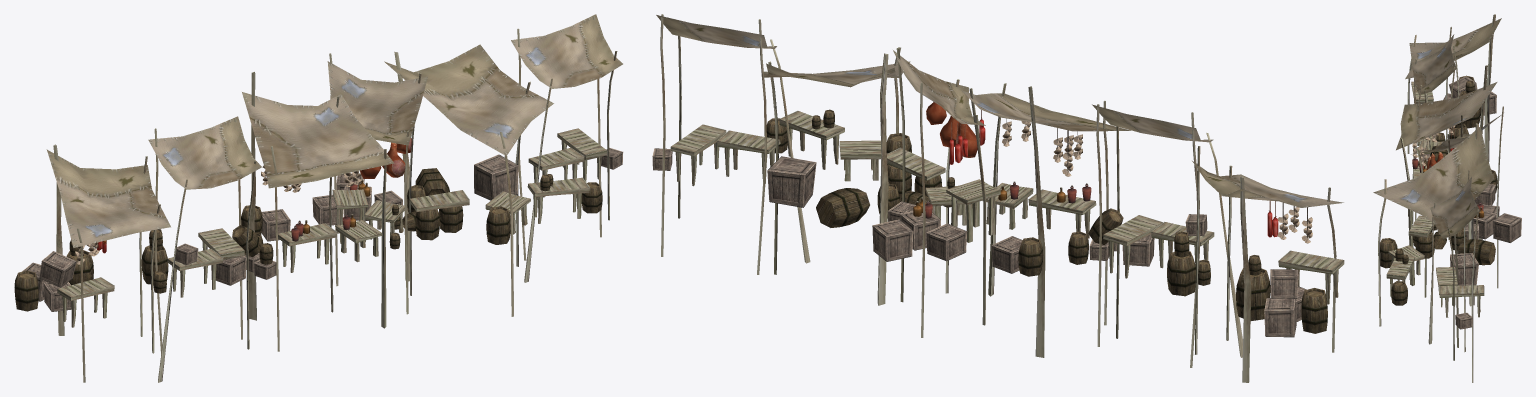
Rendered from pir_m_prp_tnt_group6_market.fbx.
3 renders of one model, left to right at view 1: azimuth 30°, elevation 25°; view 2: azimuth 150°, elevation 25°; view 3: azimuth 270°, elevation 25°, orthographic. The views are drawn at different scales.
Parts seen in each view (by area): view 1: canopy03, canopy05, canopy01, canopy02, canopy06, canopy04, crate1, crate10, post23, barrel_10_High16, table_shanty1_high8, pasted__polySurface14 (+29 smaller); view 2: canopy03, crate1, canopy04, canopy01, canopy06, barrel_07_High3, post23, canopy02, post22, canopy05, crate17, post24 (+32 smaller); view 3: canopy05, canopy03, canopy06, canopy01, canopy02, crate17, barrel_07_High3, crate1, post24, polySurface14, polySurface14.001, crate5 (+29 smaller).
Boxes of the visible parts, x1,y1,x2,y2 form: canopy03: (242,92,394,188); canopy05: (384,44,553,155); canopy01: (46,149,170,247); canopy02: (148,116,261,189); canopy06: (511,14,622,88); canopy04: (327,61,427,145); crate1: (474,154,518,200); crate10: (39,251,76,287); post23: (248,72,256,320); barrel_10_High16: (14,270,38,311); table_shanty1_high8: (409,190,469,211); pasted__polySurface14: (198,228,244,259); canopy03: (961,90,1130,131); crate1: (767,156,816,207); canopy04: (893,50,985,125); canopy01: (1192,161,1343,207); canopy06: (656,15,776,48); barrel_07_High3: (816,188,869,227); post23: (1028,86,1045,357); canopy02: (1092,104,1213,142); post22: (877,53,888,305); canopy05: (764,61,910,87); crate17: (872,219,913,261); post24: (1240,176,1251,382); canopy05: (1373,126,1494,223); canopy03: (1396,82,1497,150); canopy06: (1430,177,1480,238); canopy01: (1405,18,1501,79); canopy02: (1411,34,1456,94); crate17: (1493,213,1521,242); barrel_07_High3: (1458,239,1495,265); crate1: (1450,253,1478,285); post24: (1484,14,1495,161); polySurface14: (1439,285,1484,297); polySurface14.001: (1386,256,1414,280); crate5: (1473,210,1496,239).
Bounding box in the file's own units: 5938 × 2268 × 1620.
2 materials, 2 textured.
